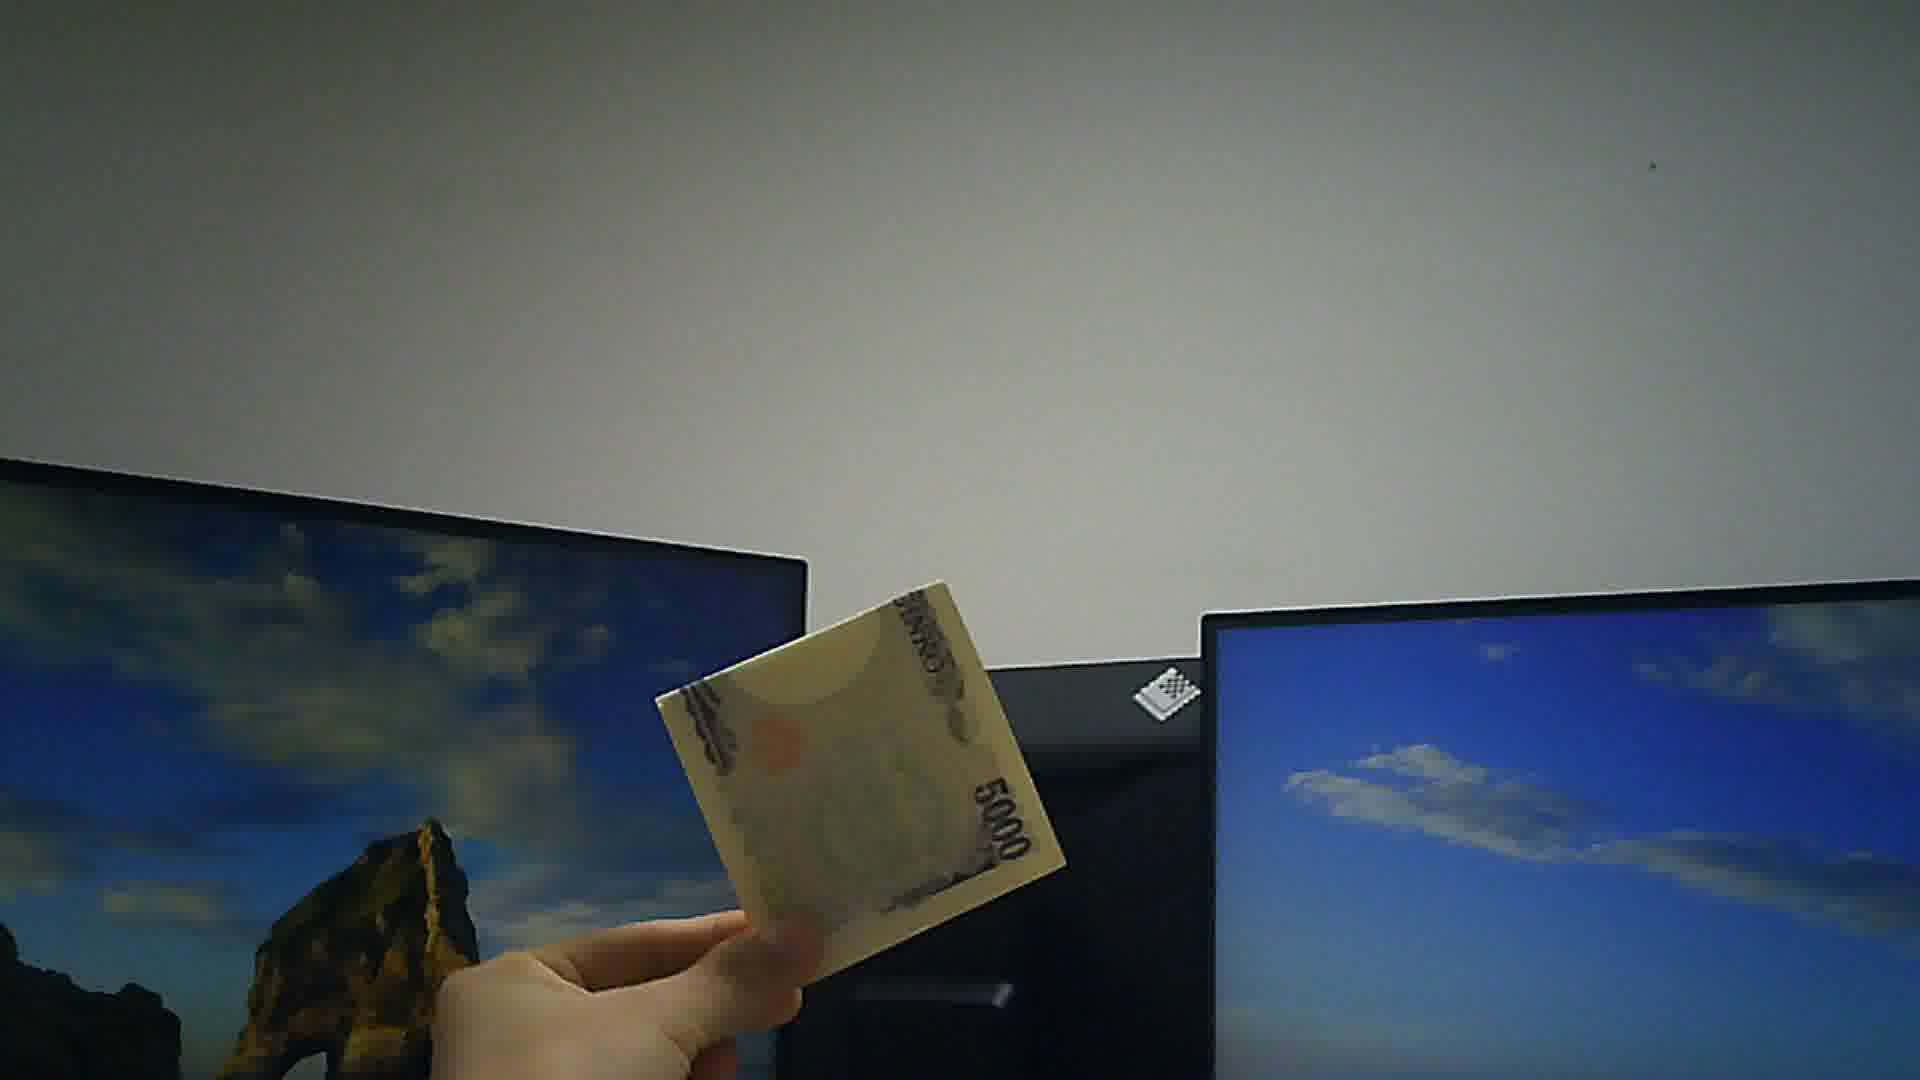5,000 Yen: (640, 568, 1091, 971)
